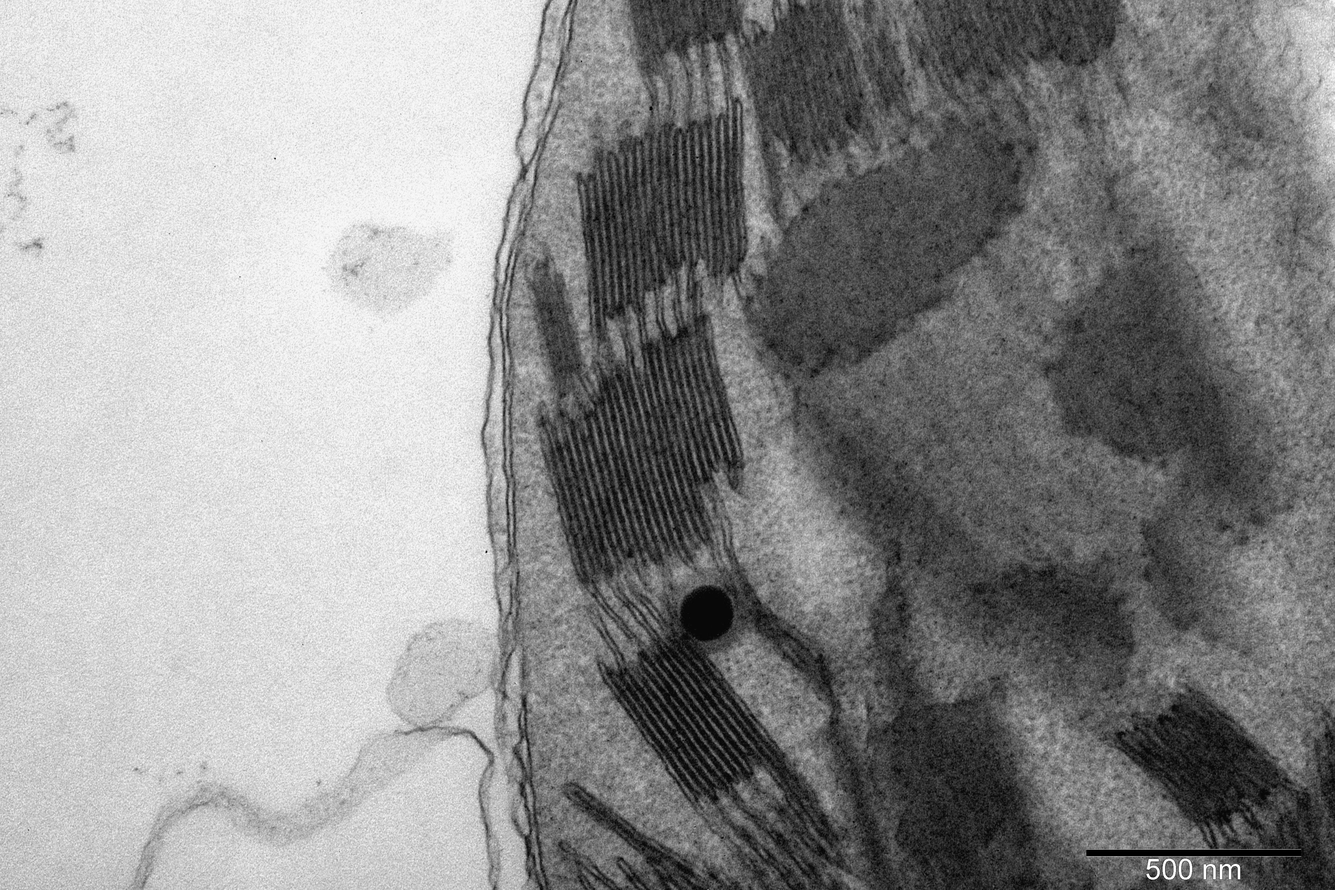granum: (743, 127, 1027, 386), (863, 582, 1099, 890), (1044, 234, 1271, 527), (536, 321, 748, 584), (573, 110, 752, 321), (598, 630, 804, 809), (812, 419, 978, 580), (1103, 688, 1293, 828), (910, 0, 1123, 101), (739, 1, 869, 153), (963, 558, 1139, 660), (626, 0, 745, 76), (1135, 519, 1208, 634), (844, 0, 911, 108), (527, 261, 584, 381), (1247, 812, 1334, 889), (771, 778, 848, 864)
